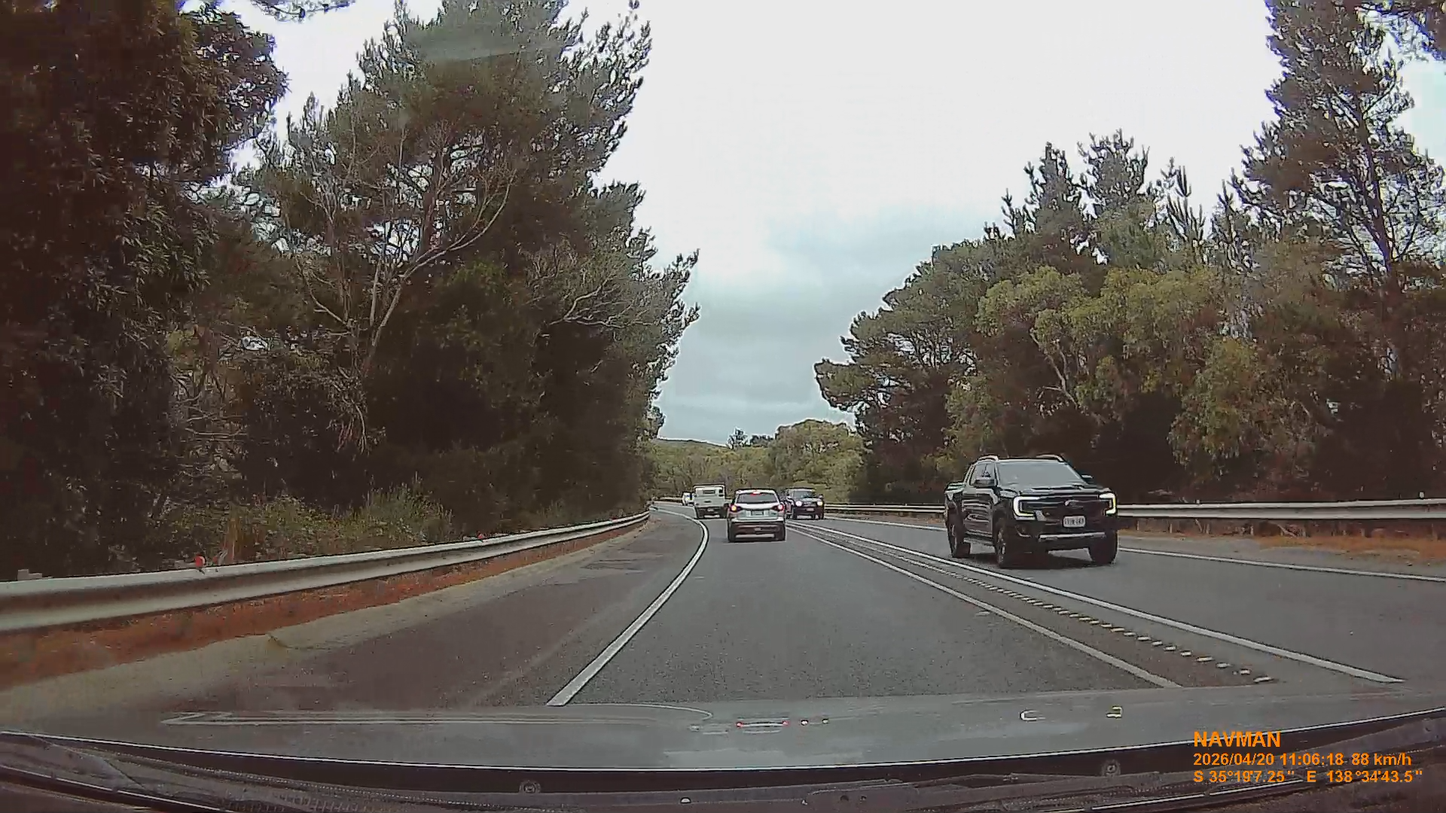road barriers: (0, 513, 648, 633), (1118, 499, 1445, 540)
